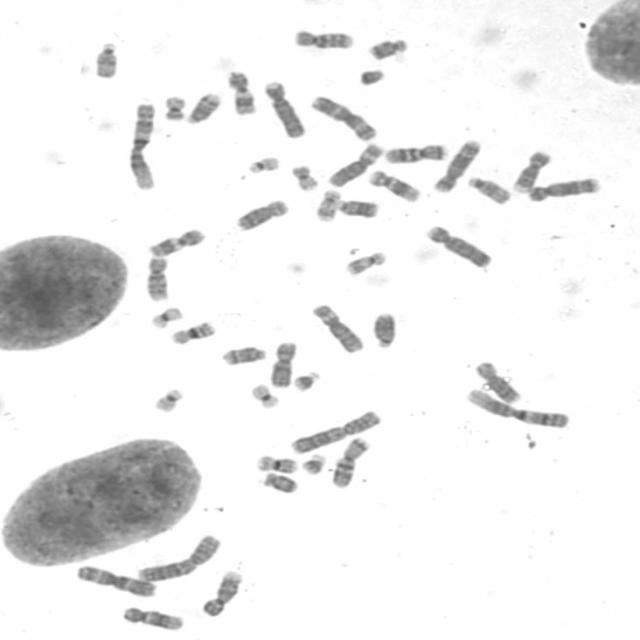A1: (467, 388, 571, 430), (126, 101, 156, 190)
A2: (136, 531, 222, 584), (289, 409, 384, 456)
A3: (310, 93, 380, 142), (74, 562, 161, 600)
B4: (424, 224, 496, 269), (264, 81, 309, 141)
B5: (434, 138, 484, 193), (529, 176, 604, 203)
C10: (292, 28, 354, 52), (144, 255, 170, 304)
C11: (147, 227, 207, 258), (226, 70, 259, 118)
C12: (369, 169, 423, 203), (122, 606, 184, 632)
C6: (310, 304, 366, 356), (326, 142, 386, 187)
C7: (330, 436, 372, 490), (384, 143, 449, 165)
C8: (233, 199, 291, 233), (476, 361, 522, 403)
C9: (200, 569, 245, 618), (512, 150, 552, 196)
D13: (371, 310, 398, 349), (334, 199, 381, 219)
D14: (185, 91, 221, 126), (220, 343, 268, 368)
D15: (466, 176, 515, 206), (92, 40, 124, 83)
E16: (170, 320, 220, 346), (256, 454, 299, 474)
E17: (344, 250, 390, 276), (313, 188, 343, 222)
E18: (367, 36, 411, 61), (261, 472, 299, 494)
F19: (150, 306, 184, 332), (251, 383, 281, 411)
F20: (291, 163, 321, 192), (164, 95, 187, 123)
G21: (293, 370, 323, 394), (299, 453, 328, 476)
G22: (153, 387, 184, 415), (246, 155, 282, 176)
X: (268, 341, 298, 389)
Y: (358, 67, 387, 87)
